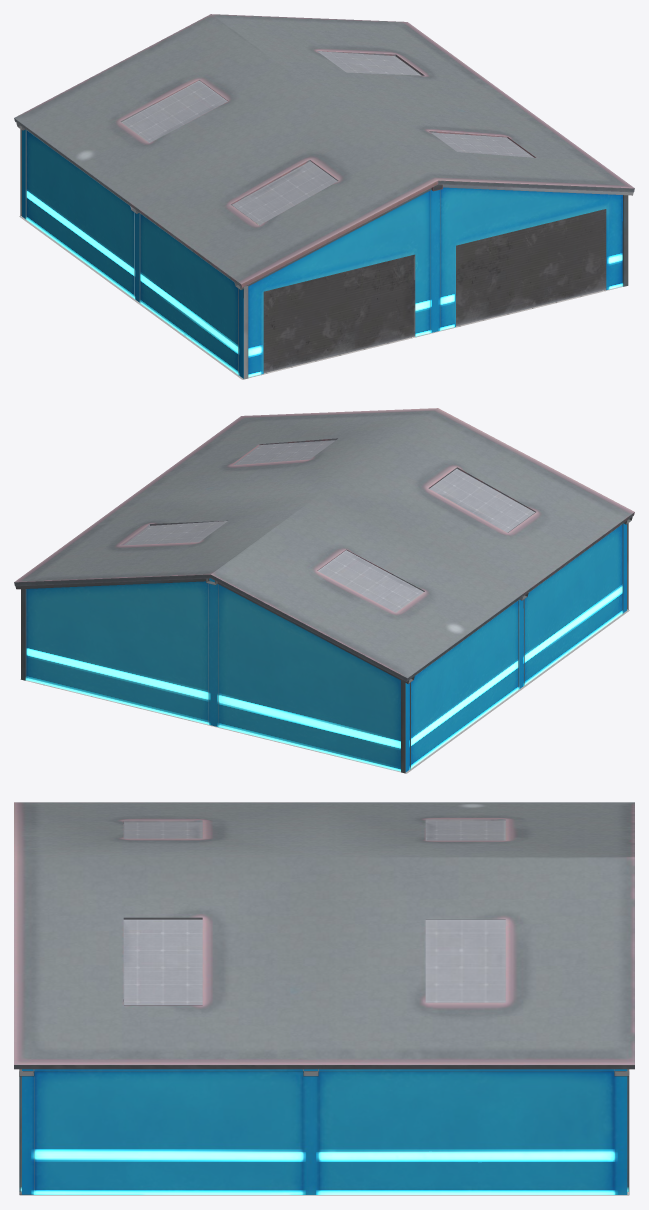
File: ESTRUCTURA_MODELO.fbx
3 renders of one model, top to bottom at view 1: azimuth 30°, elevation 25°; view 2: azimuth 150°, elevation 25°; view 3: azimuth 270°, elevation 25°, orthographic. The views are drawn at different scales.
Visible parts, largest first — view 1: EstructuraPrincipal, Piso; view 2: EstructuraPrincipal, Piso; view 3: EstructuraPrincipal, Piso.
Part boxes in pixels (x1,y1,x2,y2): EstructuraPrincipal: (14,14,634,379); Piso: (19,207,623,379); EstructuraPrincipal: (14,408,634,773); Piso: (20,610,629,773); EstructuraPrincipal: (14,802,634,1194); Piso: (19,1192,629,1195).
Size of the model in its own units: 1466 by 577 by 1464.
